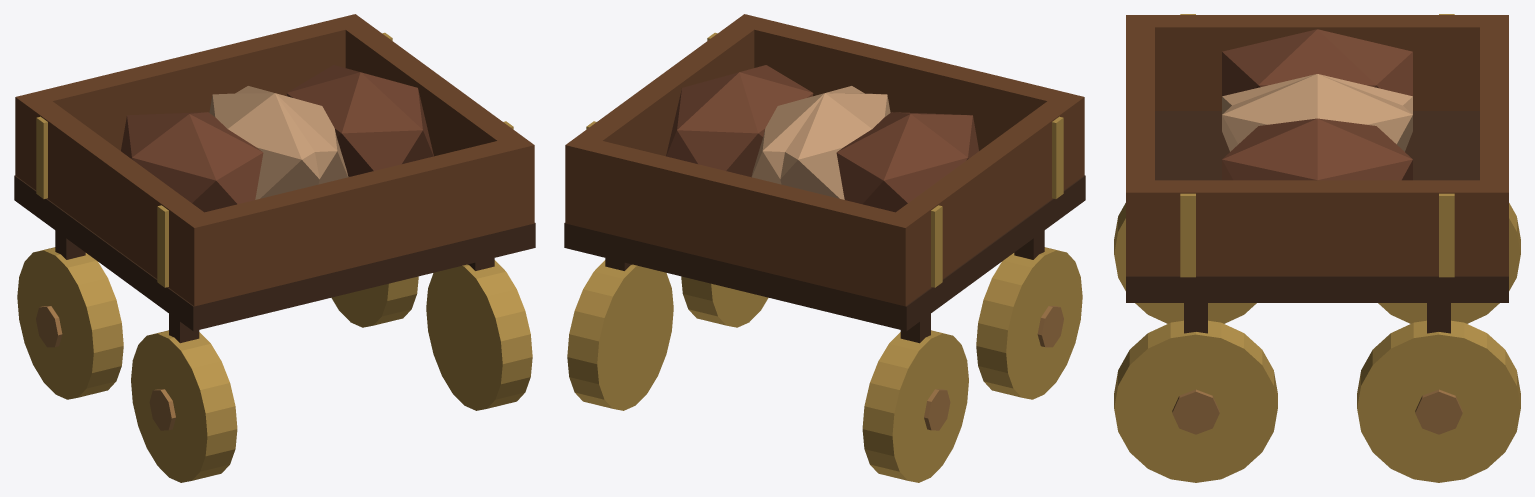
File: Desert_OreCartTunnel_Showcase.glb
3 views of the same model, side by side, from view 1: azimuth 30°, elevation 25°; view 2: azimuth 150°, elevation 25°; view 3: azimuth 270°, elevation 25° (orthographic). The views are drawn at different scales.
Visible parts, largest first — view 1: Desert_OreCartTunnel_Showcase; view 2: Desert_OreCartTunnel_Showcase; view 3: Desert_OreCartTunnel_Showcase.
Part boxes in pixels (x1,y1,x2,y2): Desert_OreCartTunnel_Showcase: (14, 14, 535, 482); Desert_OreCartTunnel_Showcase: (564, 14, 1085, 482); Desert_OreCartTunnel_Showcase: (1114, 14, 1520, 482).
Size of the model in its own units: 3.26 by 2.71 by 3.08.
